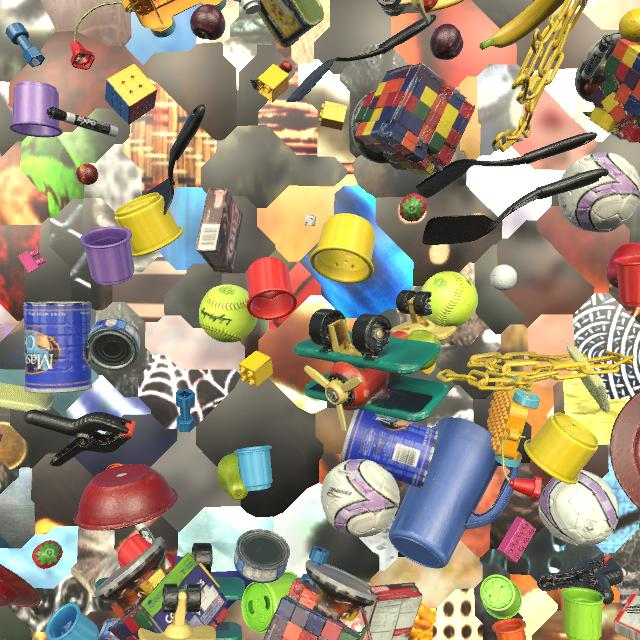ycb_002_master_chef_can: (340, 409, 439, 489), (23, 301, 92, 393)
ycb_007_tuna_fish_can: (234, 529, 290, 583), (88, 317, 141, 371), (98, 618, 120, 640)
ycb_008_pudding_box: (196, 188, 243, 273), (364, 582, 423, 640), (340, 607, 373, 640)
ycb_009_gelatin_box: (614, 593, 640, 640)
ycb_010_potted_meat_can: (257, 0, 324, 48)
ycb_011_banana: (479, 0, 565, 50)
ycb_012_strawberry: (32, 540, 63, 569), (399, 193, 427, 222)
ycb_013_apple: (606, 243, 640, 289), (327, 377, 359, 411)
ycb_014_lemon: (619, 8, 640, 43)
ycb_016_pear: (216, 453, 249, 500), (408, 329, 441, 370)
ycb_018_plum: (190, 4, 225, 40), (430, 24, 463, 60)
